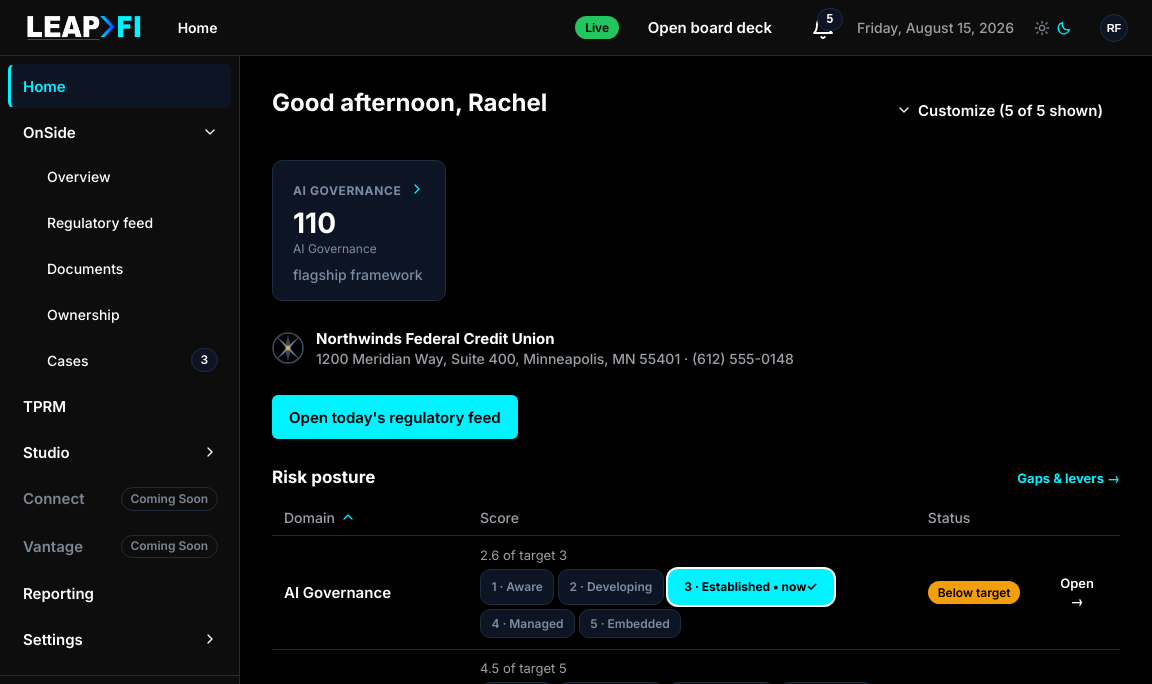
Test: OnSide nested default-expanded (PI2-D33: OnSide is defaultExpanded:true; header stays, children stay nested, no top-level promotion) › a nested child navigates to its screen and becomes the current item, with no click needed to open the already-expanded group (base onsideShow nav, §(b); breadcr
Click the button "Regulatory feed" at (120,222), box [8,200,231,244]
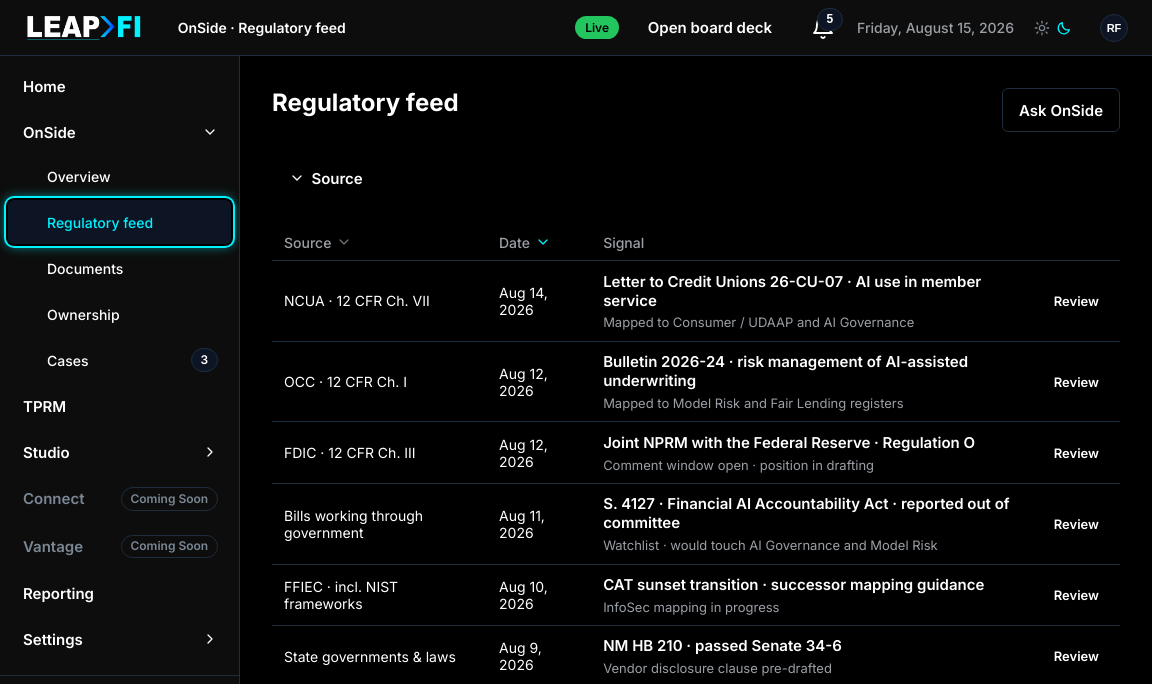
Now the text "OnSide · Regulatory feed" is shown, box [178,19,346,36]
